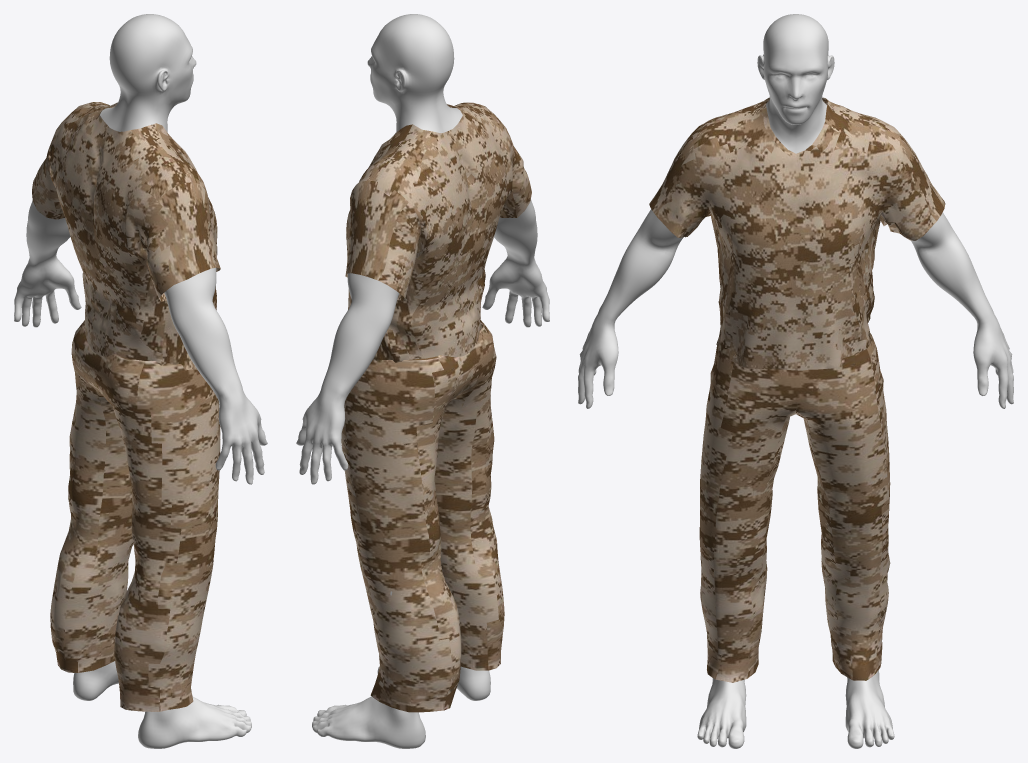
Rendered from special.dae.
The picture shows the model from 3 angles, left to right: view 1: azimuth 30°, elevation 25°; view 2: azimuth 150°, elevation 25°; view 3: azimuth 270°, elevation 25°; orthographic projection.
Visible parts, largest first — view 1: man_basic_poseC_base, Male_flamingSkull_shirt.001, Male; view 2: man_basic_poseC_base, Male_flamingSkull_shirt.001, Male; view 3: Male_flamingSkull_shirt.001, man_basic_poseC_base, Male.
Boxes of the visible parts, x1=… form: man_basic_poseC_base: x1=50, y1=320, x2=220, y2=711; Male_flamingSkull_shirt.001: x1=32, y1=102, x2=220, y2=370; Male: x1=14, y1=14, x2=267, y2=748; man_basic_poseC_base: x1=341, y1=320, x2=504, y2=712; Male_flamingSkull_shirt.001: x1=345, y1=102, x2=531, y2=362; Male: x1=296, y1=14, x2=549, y2=748; Male_flamingSkull_shirt.001: x1=649, y1=97, x2=945, y2=370; man_basic_poseC_base: x1=699, y1=333, x2=890, y2=682; Male: x1=578, y1=14, x2=1013, y2=748.
Bounding box in the file's own units: 4.26 × 11.69 × 20.74.
Materials: 2 (2 with a texture image).
